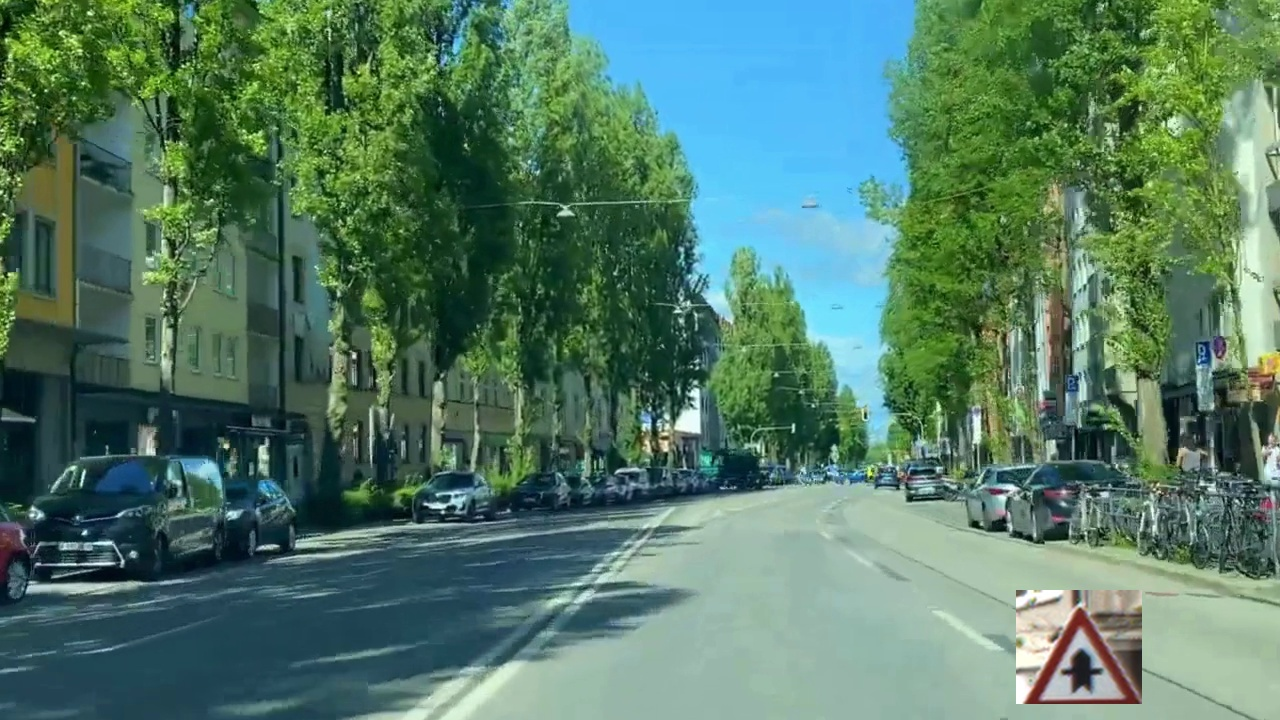Right-of-way: (1016, 590, 1142, 704)
